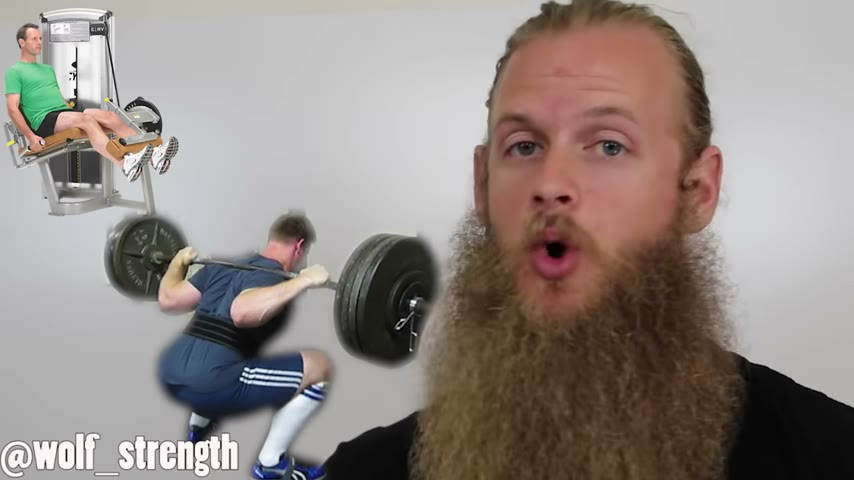barbell_plate_side: (349, 217, 449, 387)
